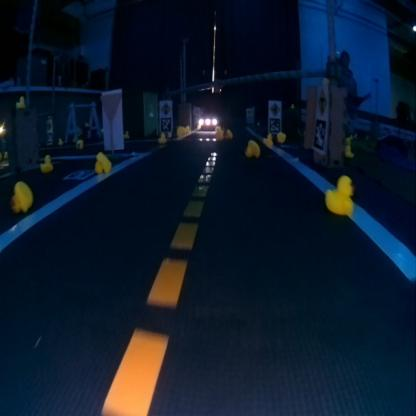Duckie: (324, 175, 351, 216), (12, 180, 32, 213), (94, 152, 111, 173), (246, 139, 260, 157), (40, 154, 52, 172), (262, 133, 272, 145), (276, 131, 286, 142), (15, 96, 24, 108), (157, 133, 165, 142), (123, 130, 129, 139)
Duckiebot: (198, 114, 218, 129)
Intersection sign: (317, 88, 327, 115), (269, 102, 280, 116)
QR code: (313, 119, 324, 151), (64, 170, 95, 178), (268, 118, 280, 132), (160, 116, 170, 130)
Signal sign: (160, 102, 170, 115)
